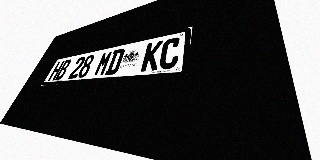2: (68, 56, 87, 79)
8: (76, 54, 96, 78)
B: (54, 59, 72, 80)
C: (158, 36, 182, 70)
D: (104, 48, 126, 75)
H: (47, 60, 65, 81)
K: (140, 40, 163, 72)
M: (93, 50, 114, 76)
